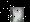person: (11, 8, 25, 22)
